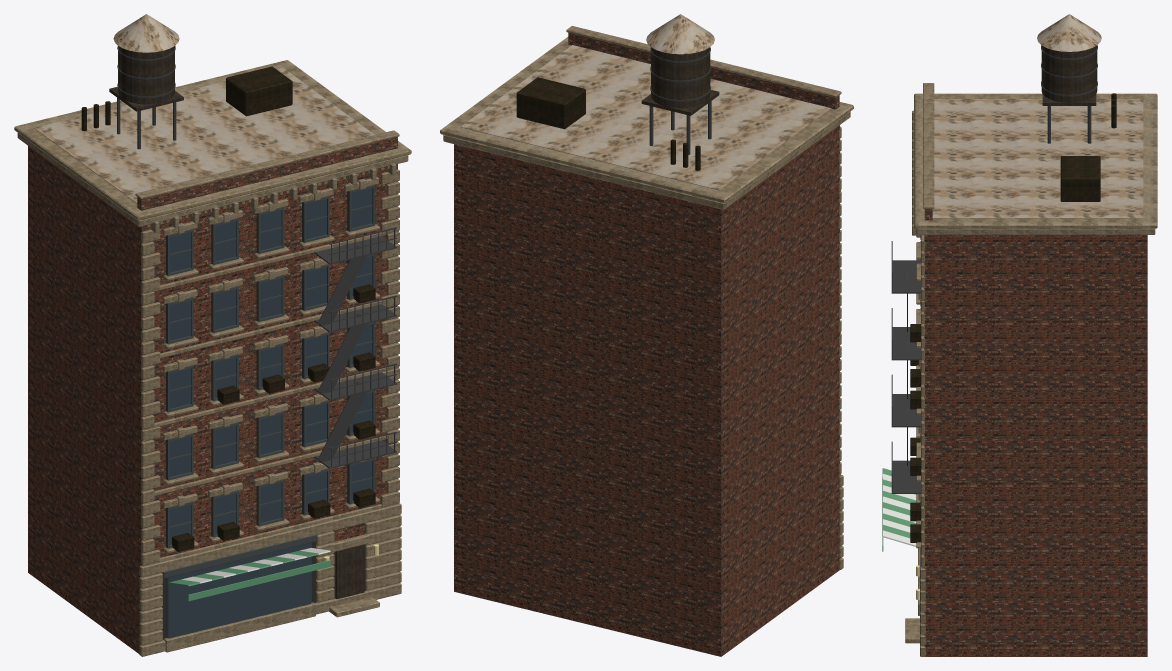
The model's file is OT_Tenement_A.glb.
3 renders of one model, left to right at view 1: azimuth 30°, elevation 25°; view 2: azimuth 150°, elevation 25°; view 3: azimuth 270°, elevation 25°, orthographic. The views are drawn at different scales.
Parts seen in each view (by area): view 1: Tenement_Brick, Tenement_Stone, Tenement_Glass, Tenement_Roof, Tenement_Frame, Tenement_Iron, Tenement_Metal, Tenement_Wood, Tenement_AwnA, Tenement_Reveal3, Tenement_AwnB; view 2: Tenement_Brick, Tenement_Roof, Tenement_Stone, Tenement_Wood, Tenement_Metal, Tenement_Iron; view 3: Tenement_Brick, Tenement_Roof, Tenement_Stone, Tenement_Iron, Tenement_Metal, Tenement_Wood, Tenement_AwnB, Tenement_AwnA.
Part boxes in pixels (box(x1,y1,x2,y2)): Tenement_Brick: box(28, 137, 397, 653); Tenement_Stone: box(14, 60, 411, 656); Tenement_Glass: box(168, 188, 372, 638); Tenement_Roof: box(34, 14, 374, 203); Tenement_Frame: box(162, 185, 375, 638); Tenement_Iron: box(117, 46, 396, 468); Tenement_Metal: box(81, 66, 375, 551); Tenement_Wood: box(109, 46, 364, 599); Tenement_AwnA: box(168, 550, 330, 601); Tenement_Reveal3: box(166, 191, 348, 547); Tenement_AwnB: box(181, 548, 330, 583); Tenement_Brick: box(454, 32, 839, 656); Tenement_Roof: box(461, 14, 831, 190); Tenement_Stone: box(440, 26, 853, 569); Tenement_Wood: box(641, 47, 719, 115); Tenement_Metal: box(516, 77, 700, 170); Tenement_Iron: box(649, 47, 711, 154); Tenement_Brick: box(924, 209, 1147, 656); Tenement_Roof: box(932, 14, 1143, 218); Tenement_Stone: box(905, 83, 1157, 656); Tenement_Iron: box(891, 45, 1097, 493); Tenement_Metal: box(910, 93, 1116, 542); Tenement_Wood: box(1041, 45, 1097, 105); Tenement_AwnB: box(882, 474, 916, 546); Tenement_AwnA: box(882, 468, 916, 551).
Size of the model in its own units: 13.9 by 27.55 by 12.32.
14 materials, 5 textured.
